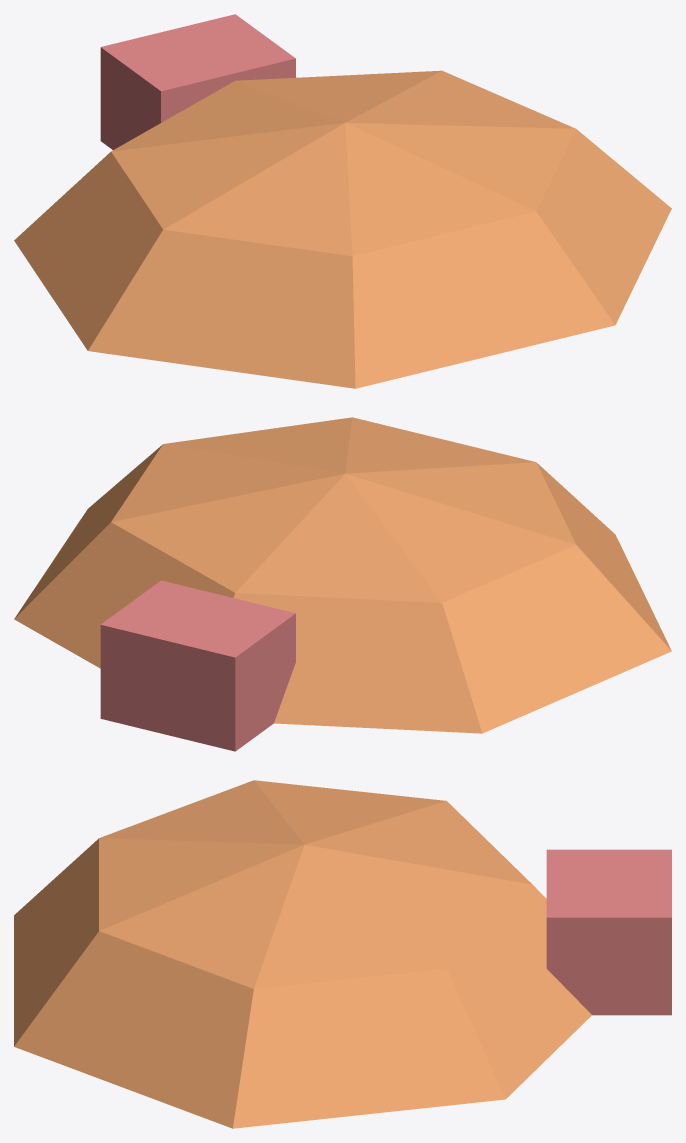
File: shell.glb
3 views of the same model, one above another, from view 1: azimuth 30°, elevation 25°; view 2: azimuth 150°, elevation 25°; view 3: azimuth 270°, elevation 25° (orthographic). The views are drawn at different scales.
Visible parts, largest first — view 1: ocean-shell; view 2: ocean-shell; view 3: ocean-shell.
Part boxes in pixels (x1,y1,x2,y2): ocean-shell: (14,14,671,388); ocean-shell: (14,417,671,751); ocean-shell: (14,780,671,1128).
Bounding box in the file's own units: 0.39 × 0.084 × 0.3672.
